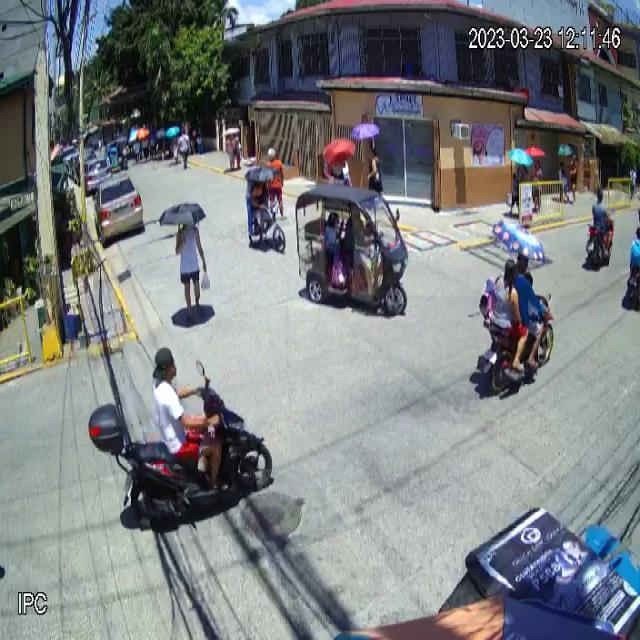Motorcycle: (88, 363, 275, 535)
